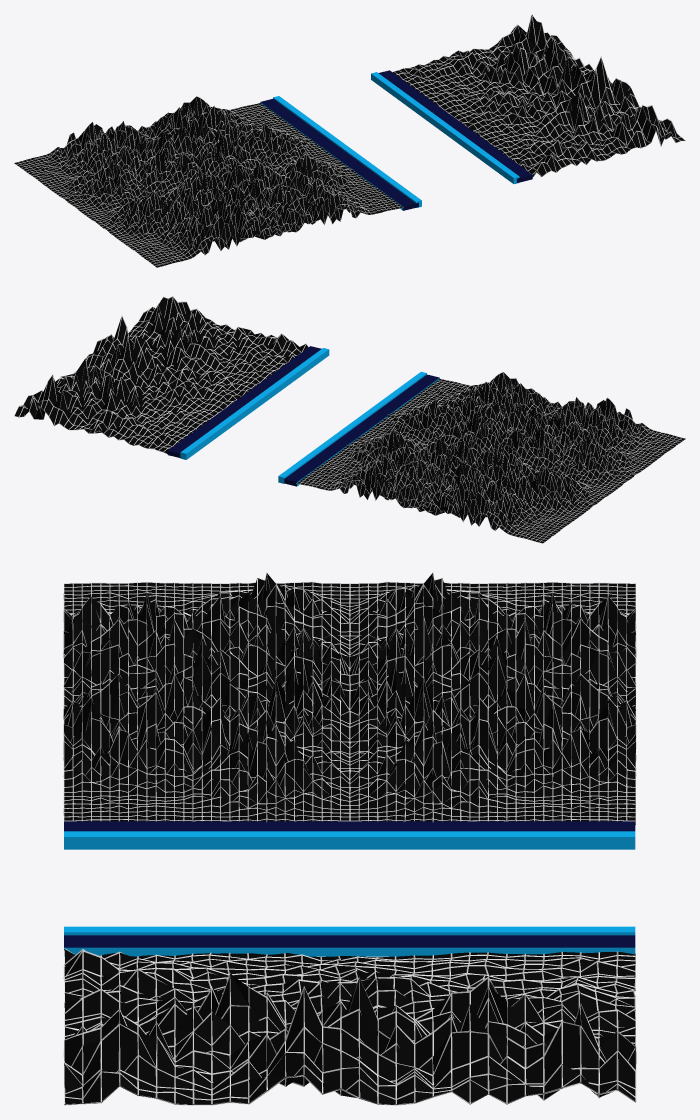
File: 2SAMPLEnew_platform_mountaine_.fbx
3 renders of one model, top to bottom at view 1: azimuth 30°, elevation 25°; view 2: azimuth 150°, elevation 25°; view 3: azimuth 270°, elevation 25°, orthographic. The views are drawn at different scales.
Parts seen in each view (by area): view 1: Plane, Plane.001, Cube.001; view 2: Plane, Plane.001, Cube.001; view 3: Plane, Plane.001, Cube.001.
Part boxes in pixels (x1,y1,x2,y2): Plane: (14, 96, 403, 267); Plane.001: (392, 14, 685, 177); Cube.001: (260, 70, 532, 210); Plane: (296, 372, 685, 543); Plane.001: (14, 296, 308, 454); Cube.001: (167, 346, 439, 486); Plane: (63, 573, 636, 825); Plane.001: (63, 948, 636, 1105); Cube.001: (64, 821, 635, 956).
Bounding box in the file's own units: 3416 × 304 × 1603.
